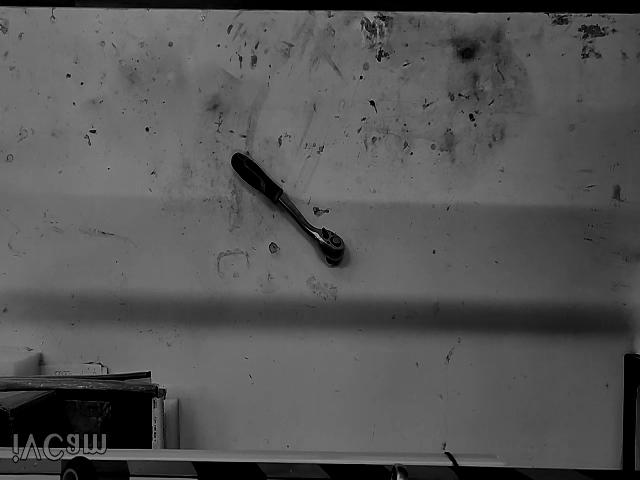Ratchet: (231, 153, 345, 267)
